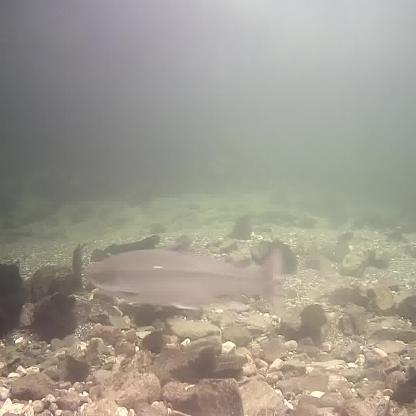salmon: (82, 233, 291, 324)
